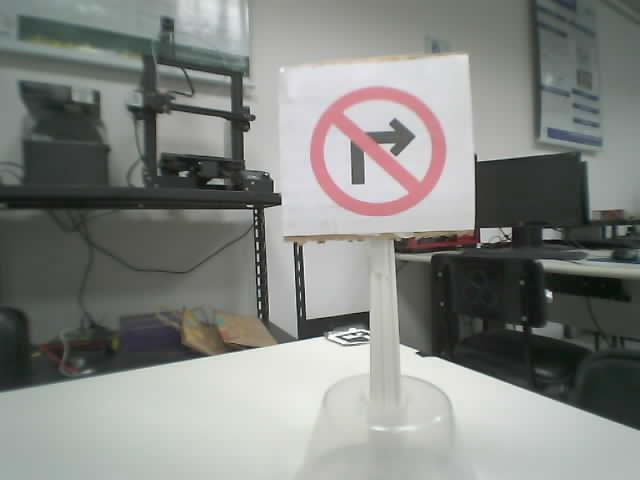R-4b_proibido-direita: (308, 85, 446, 216)
